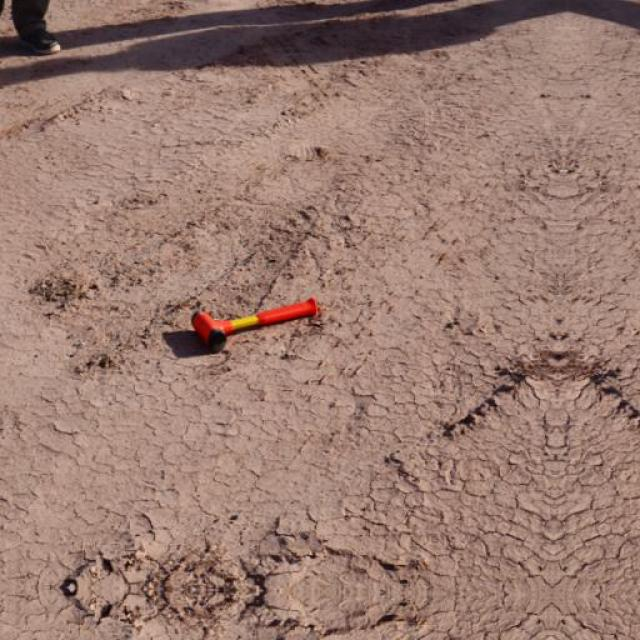mallet: (190, 295, 319, 351)
